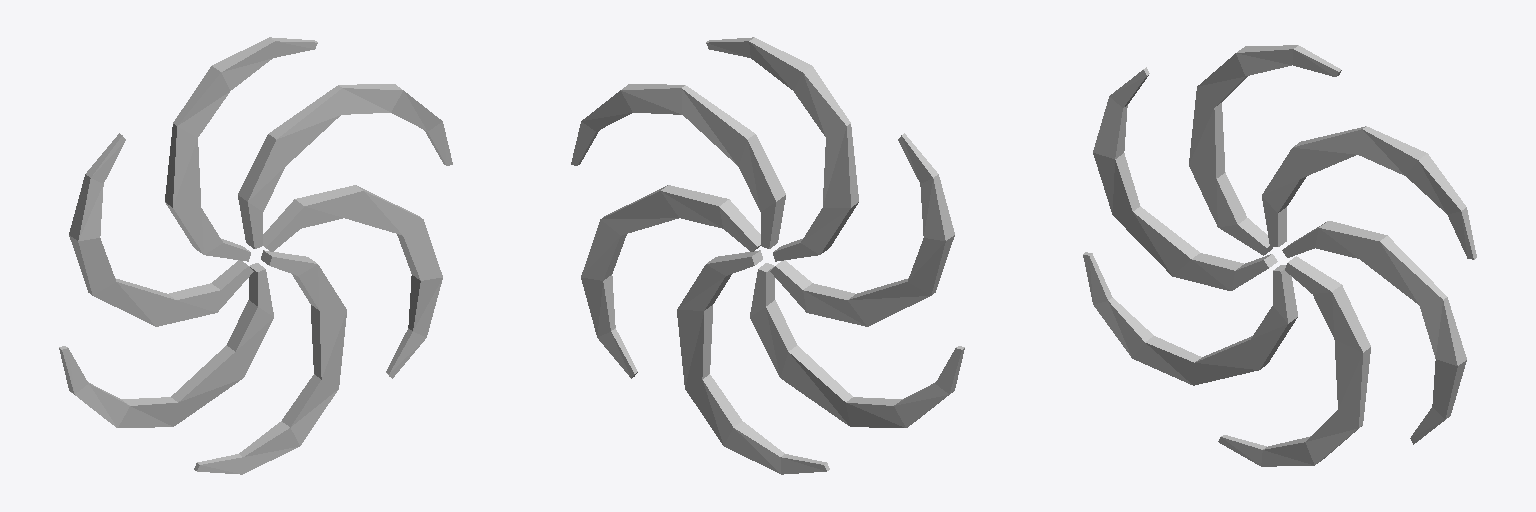
File: dobro-vint-r.obj
The picture shows the model from 3 angles: view 1: azimuth 30°, elevation 25°; view 2: azimuth 150°, elevation 25°; view 3: azimuth 330°, elevation 25°; orthographic projection.
Parts seen in each view (by area): view 1: Cube.019_Cube.029; view 2: Cube.019_Cube.029; view 3: Cube.019_Cube.029.
Boxes of the visible parts, x1=… form: Cube.019_Cube.029: x1=59, y1=37, x2=452, y2=474; Cube.019_Cube.029: x1=571, y1=37, x2=964, y2=474; Cube.019_Cube.029: x1=1083, y1=45, x2=1476, y2=466.
Size of the model in its own units: 2.54 by 2.64 by 0.1133.